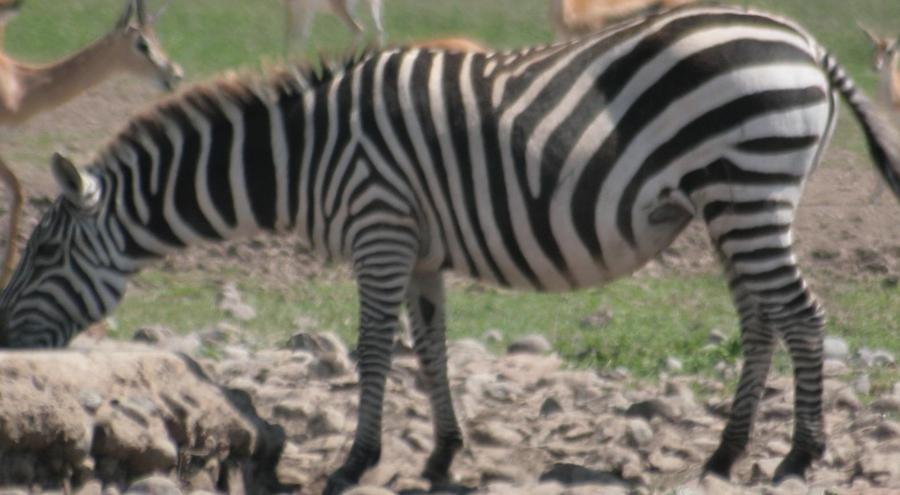zebra_plains: (271, 13, 855, 287)
